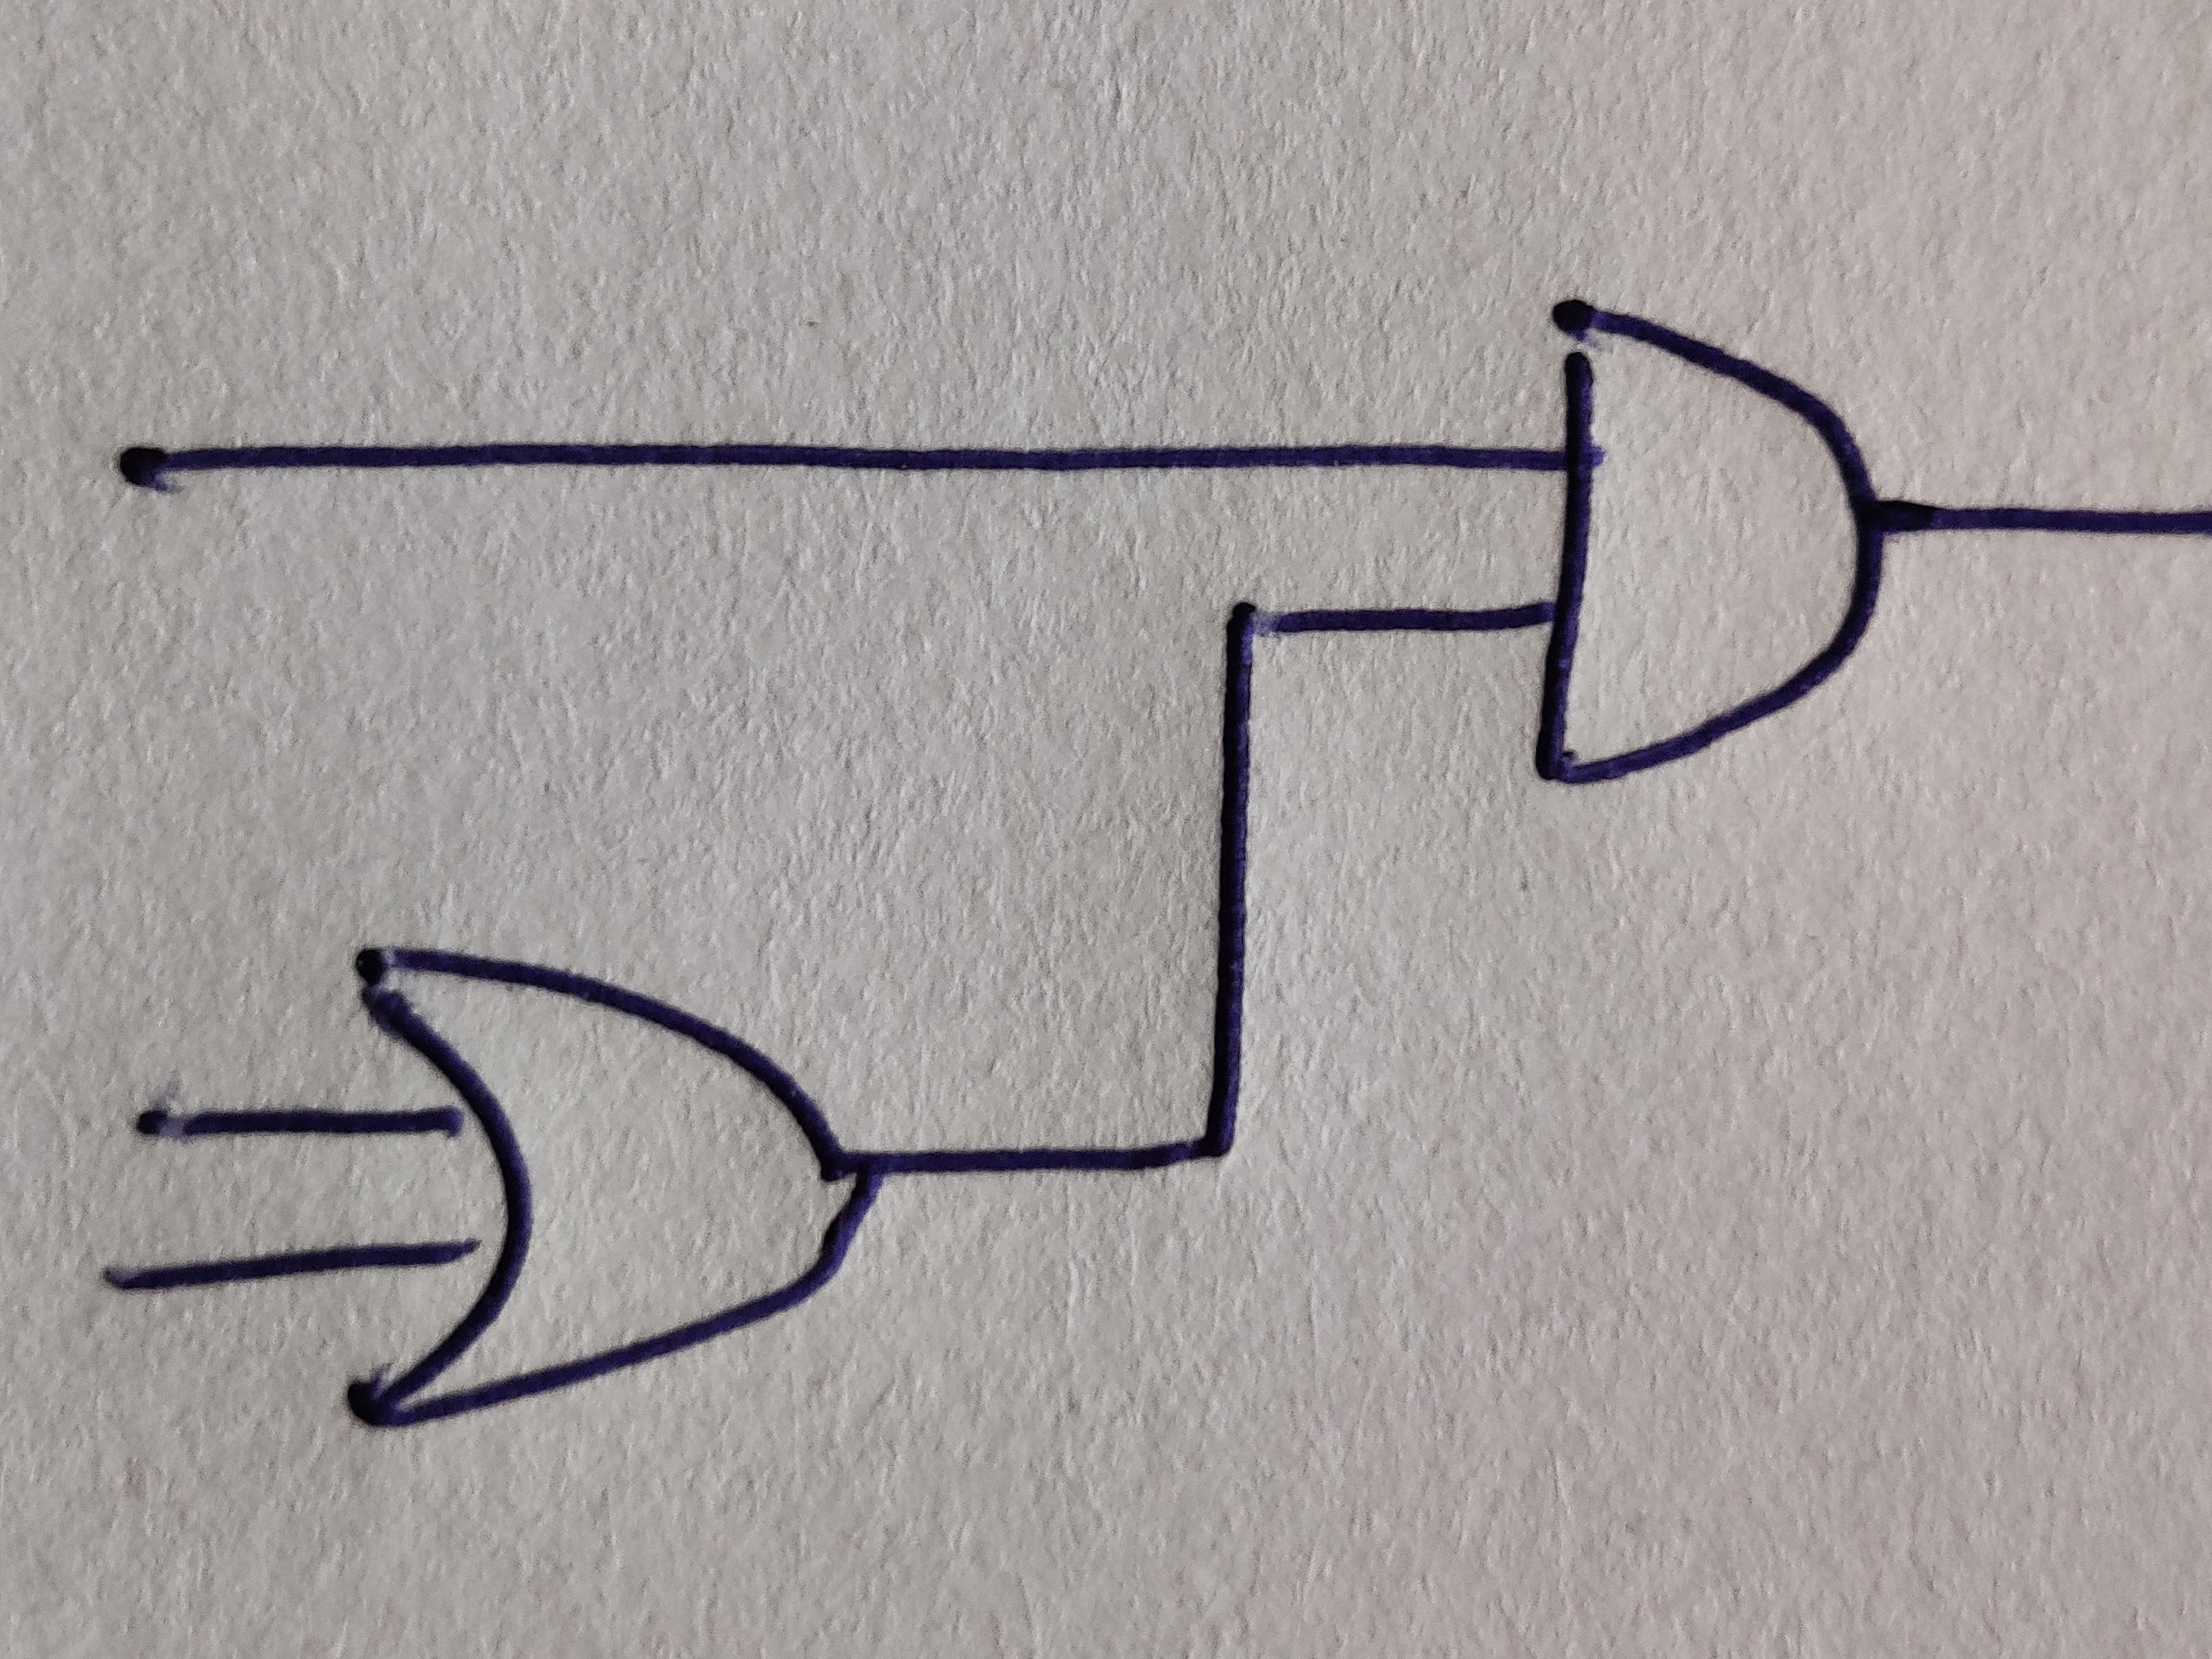and: (1534, 298, 1885, 782)
or: (347, 946, 881, 1429)
